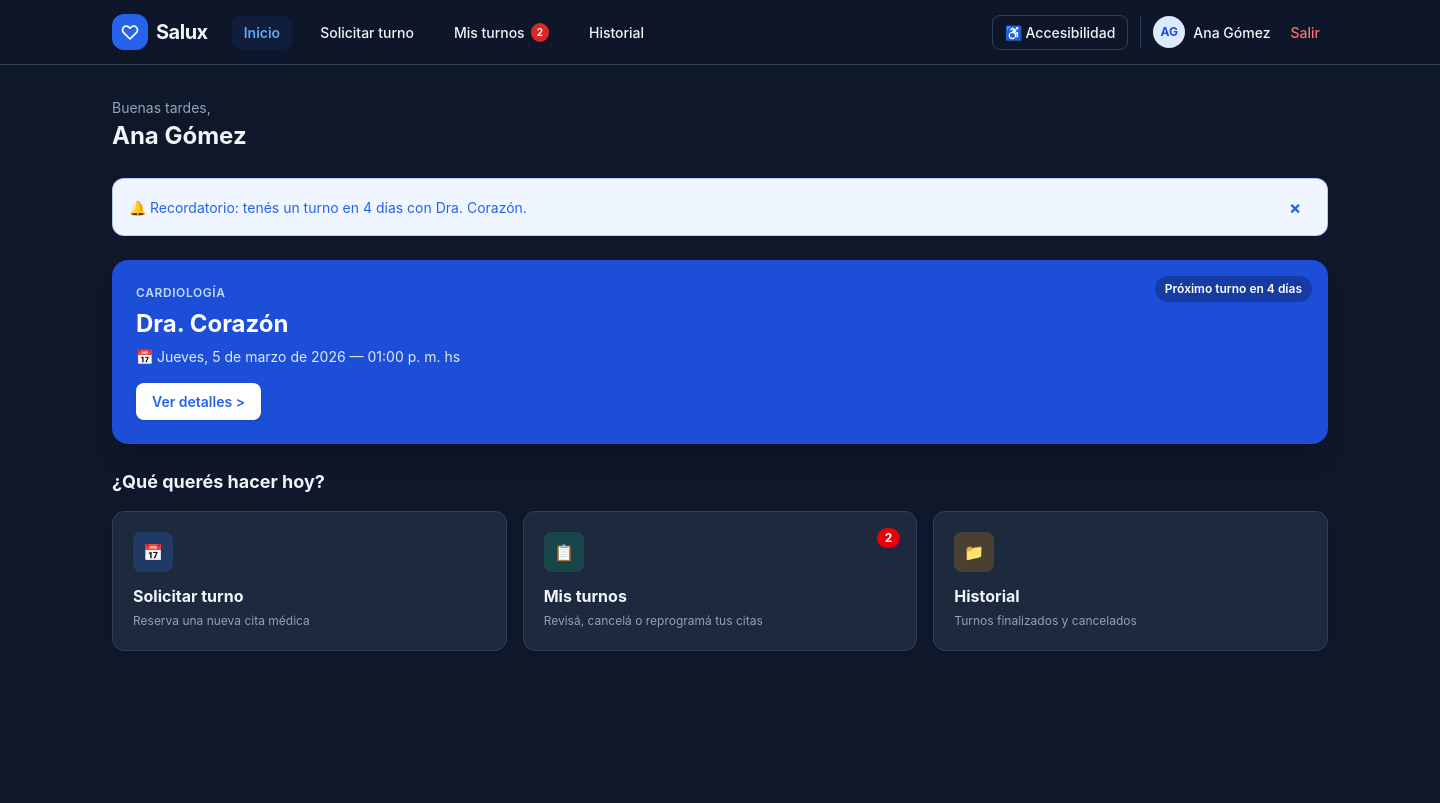
Test case: paciente › mis turnos › cancelar pide confirmación y "Volver" no cancela nada
The image size is (1440, 803).
Expected: the text "🔔 Recordatorio: tenés un turno en 4 días con Dra. Corazón." is shown, left=129, top=196, right=527, bottom=218
Click the button "Mis turnos 2": click(501, 32) left=442, top=16, right=561, bottom=48
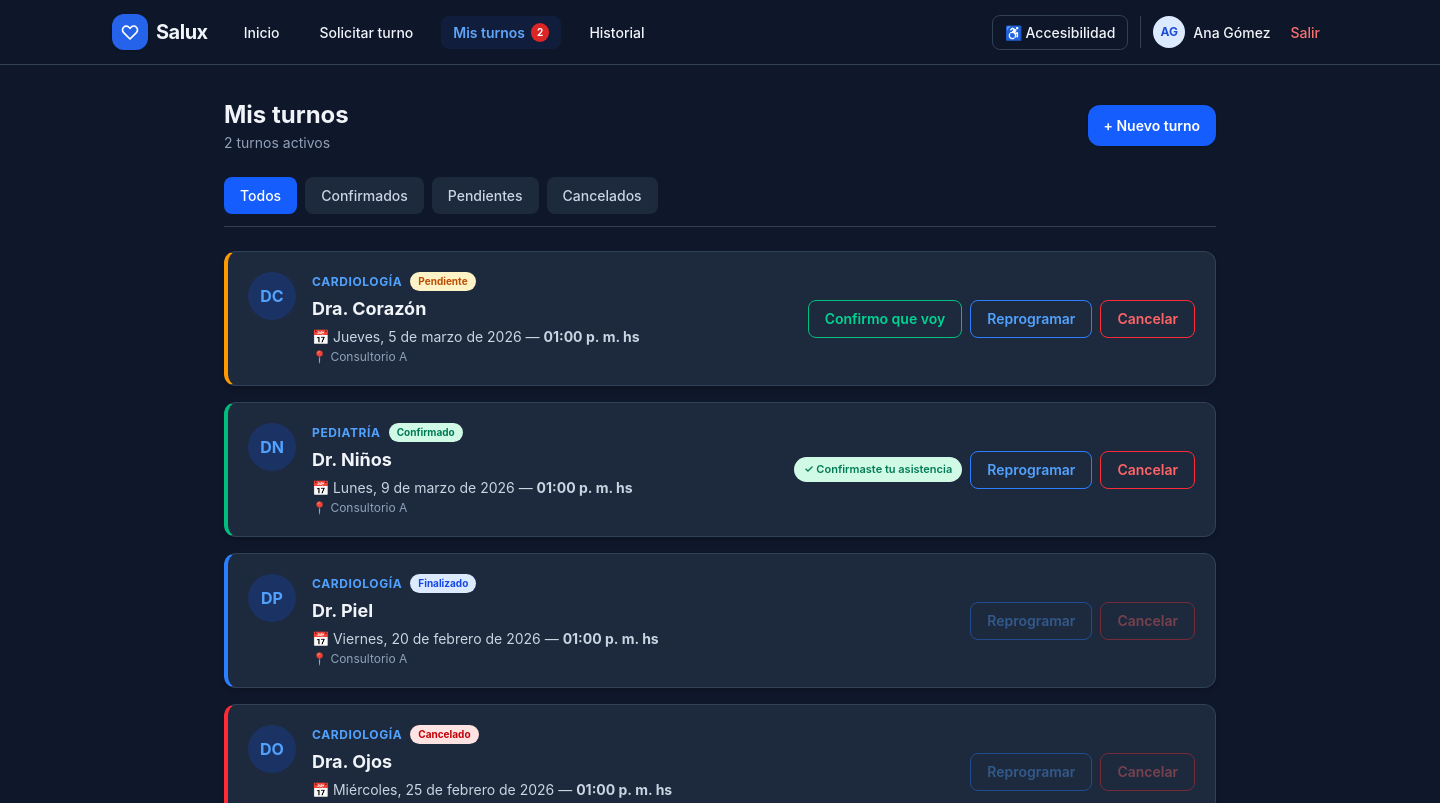
Click the button "Cancelar" in the row of "Jueves, 5 de marzo de 2026": click(1148, 318) left=1100, top=300, right=1195, bottom=338
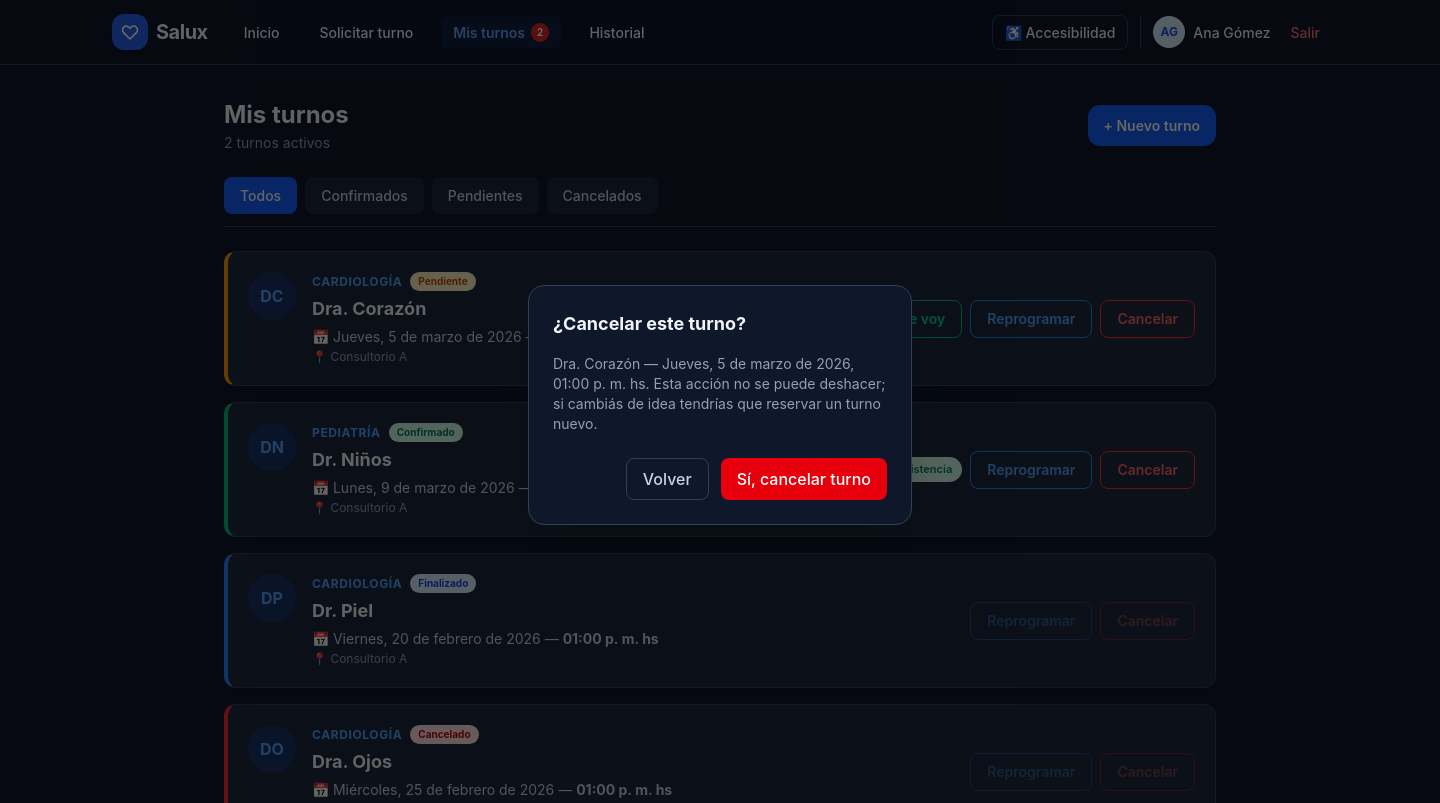
Expected: the heading "¿Cancelar este turno?" is shown, left=553, top=313, right=746, bottom=334
Expected: the text "Dra. Corazón — " is shown, left=553, top=355, right=854, bottom=392
Click the button "Volver": click(667, 479) left=626, top=458, right=709, bottom=500
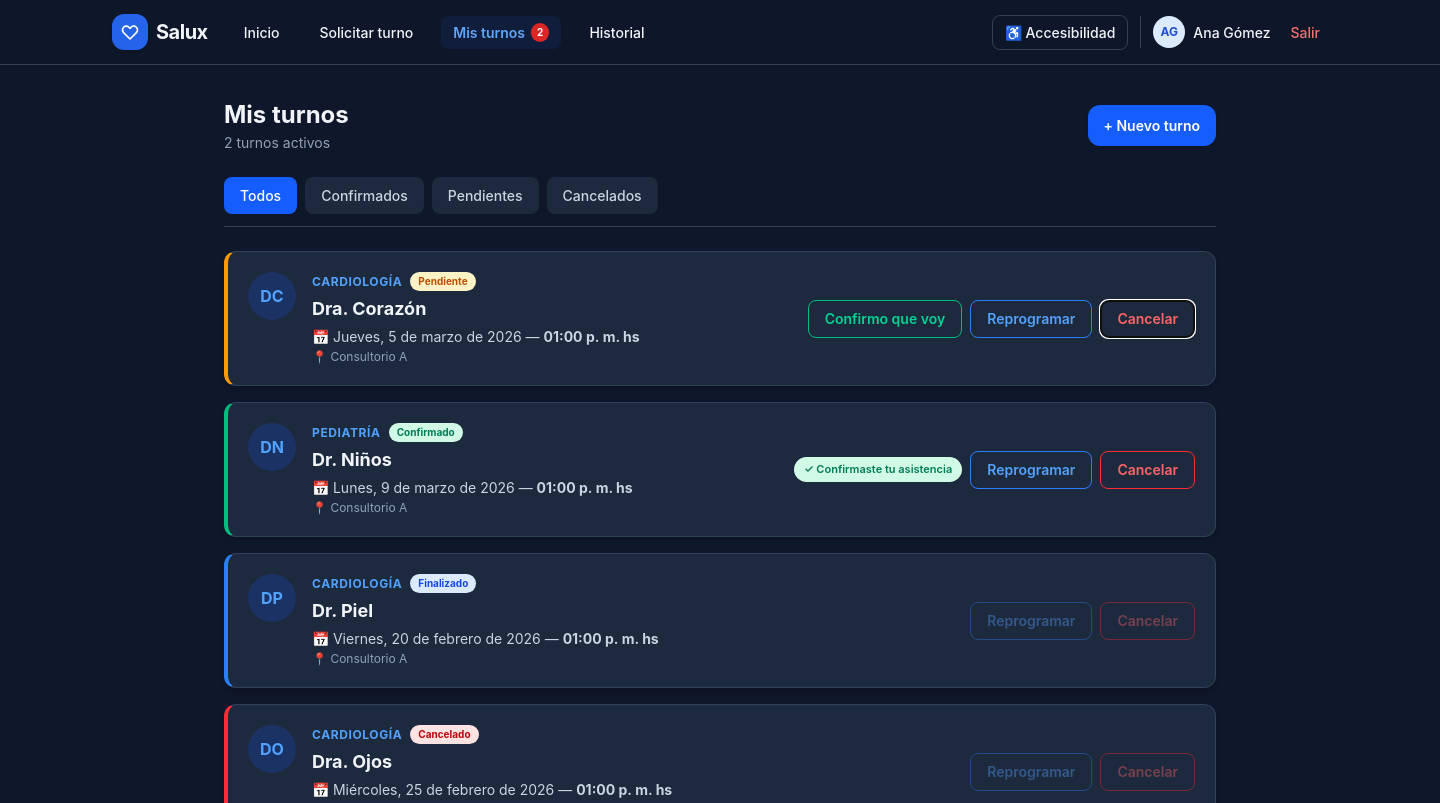
Expected: the heading "¿Cancelar este turno?" is gone
